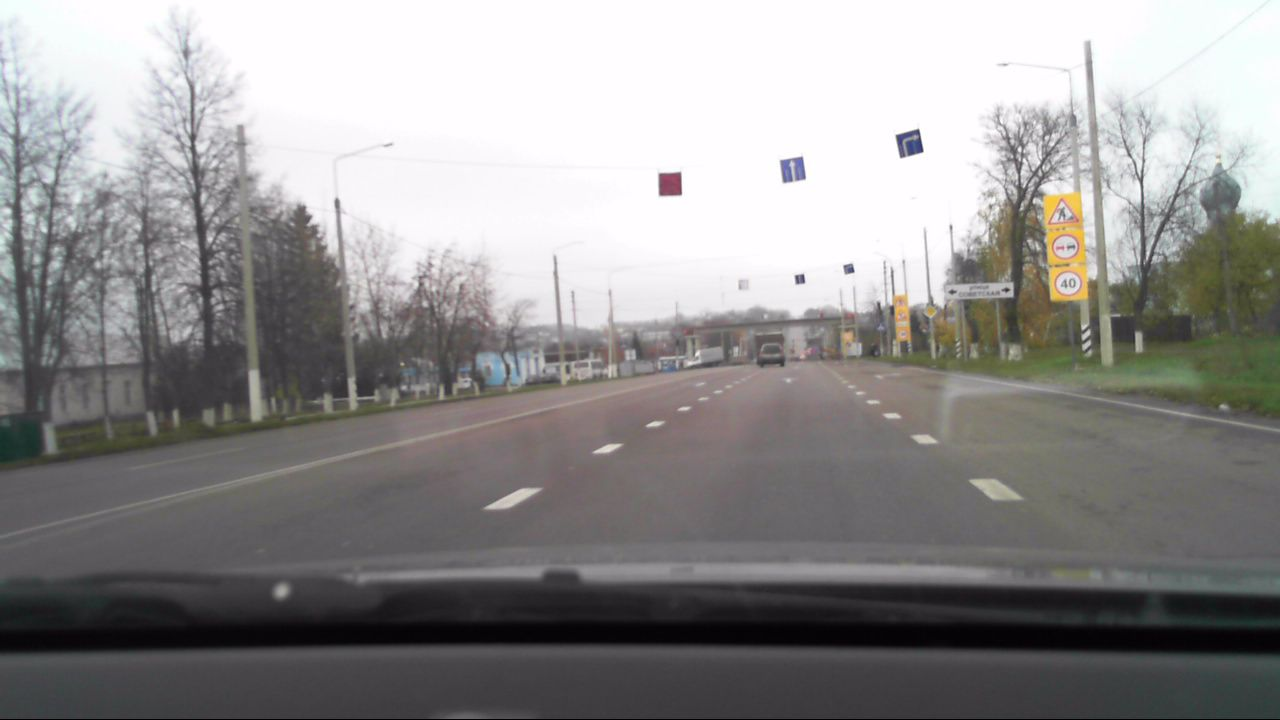speed_warning_40: (1049, 267, 1087, 302)
